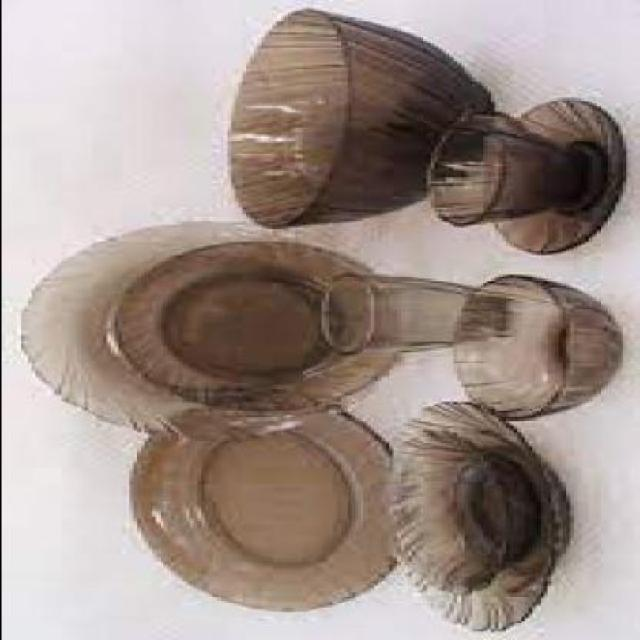glass: (15, 222, 372, 440), (222, 6, 489, 225), (122, 400, 396, 612), (107, 243, 396, 414), (382, 400, 569, 629), (382, 428, 536, 590), (450, 272, 618, 417), (486, 98, 622, 254), (422, 108, 590, 228), (317, 275, 505, 351)
